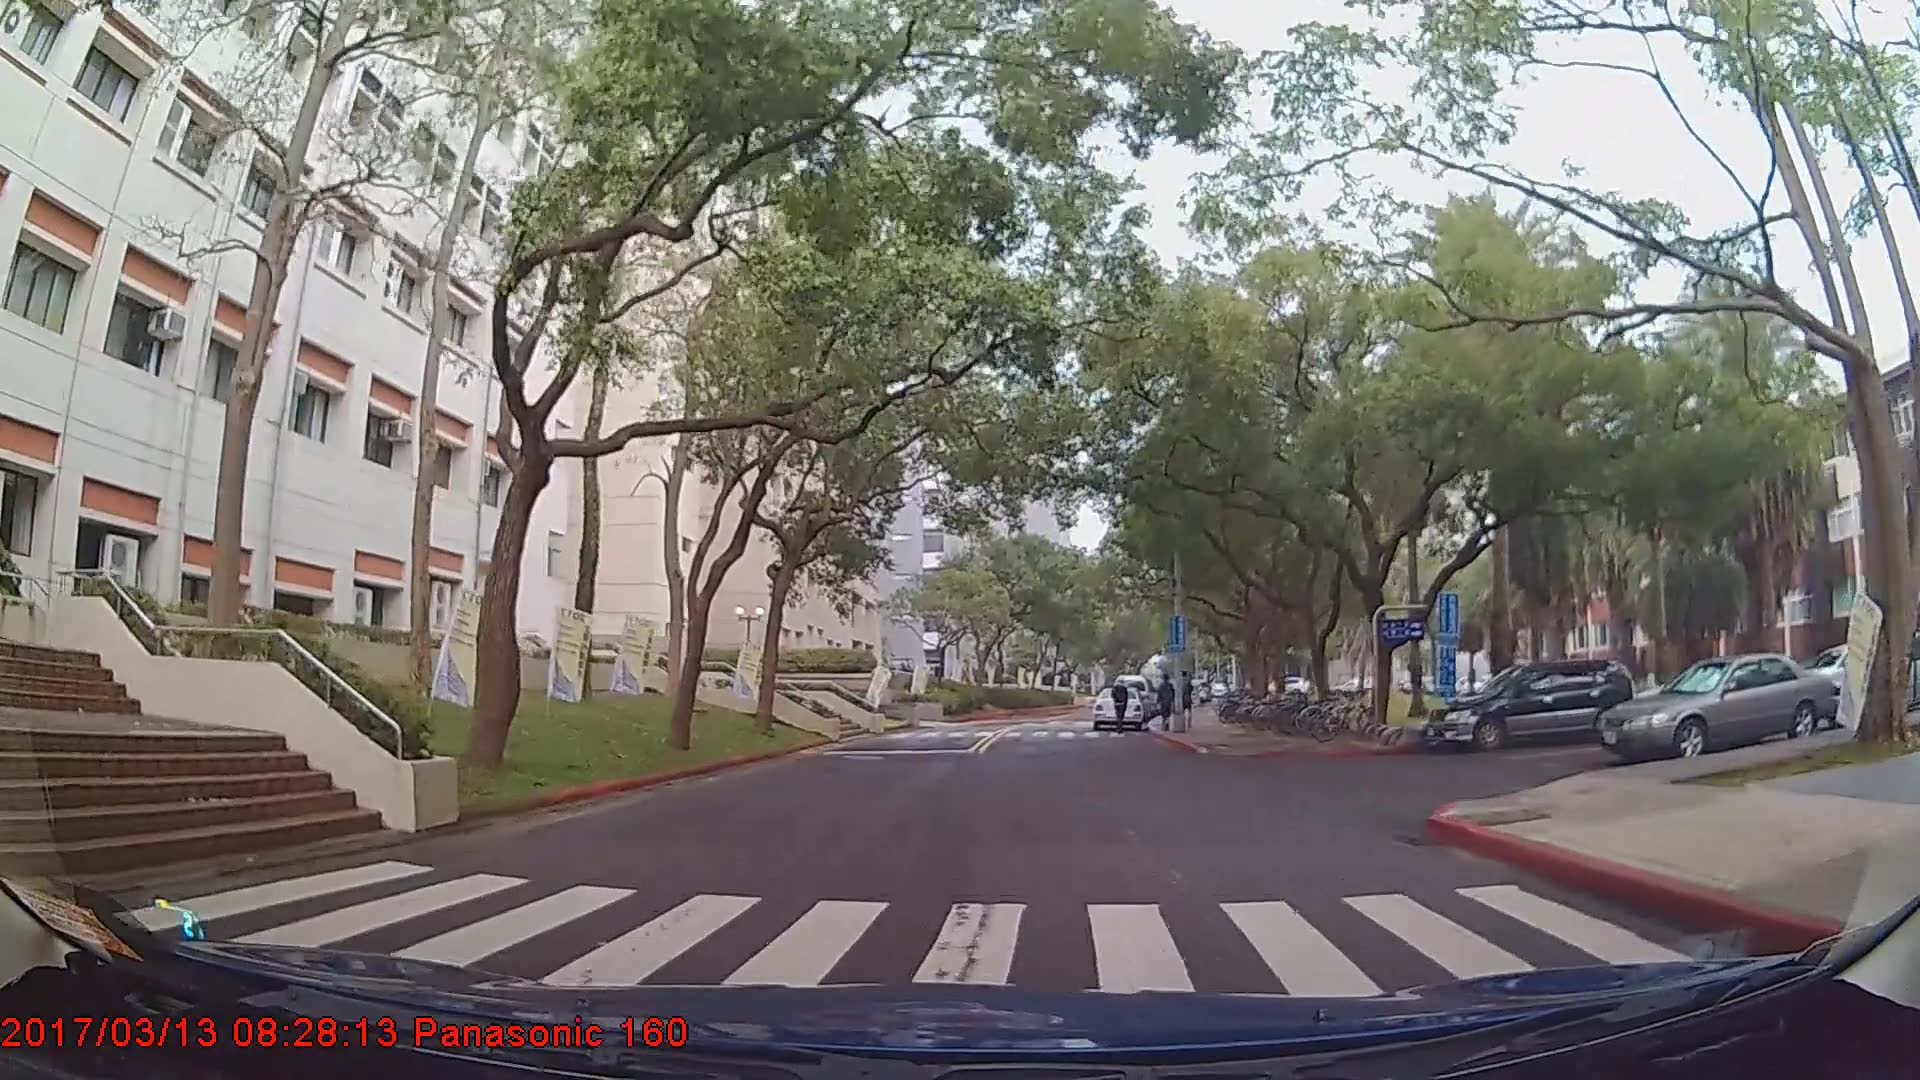pedestrian: (1158, 678, 1180, 732), (1110, 682, 1130, 739)
vehicle: (1601, 653, 1834, 767), (1429, 659, 1635, 755), (1087, 686, 1144, 731)
